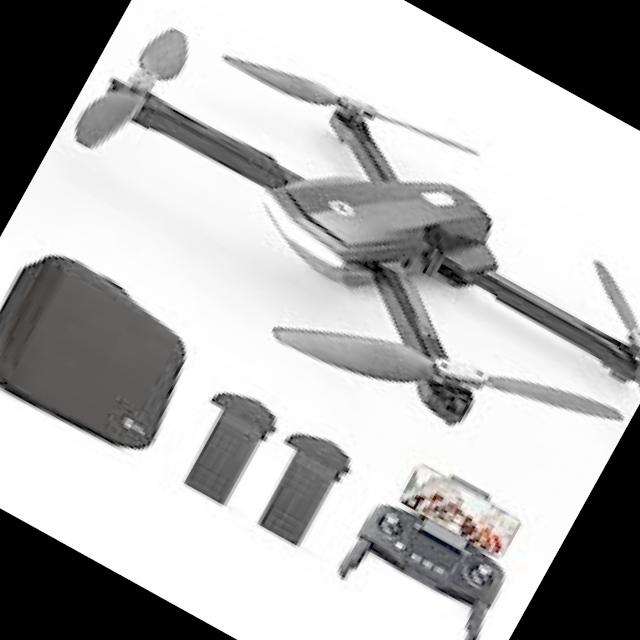drone: (16, 0, 640, 518)
